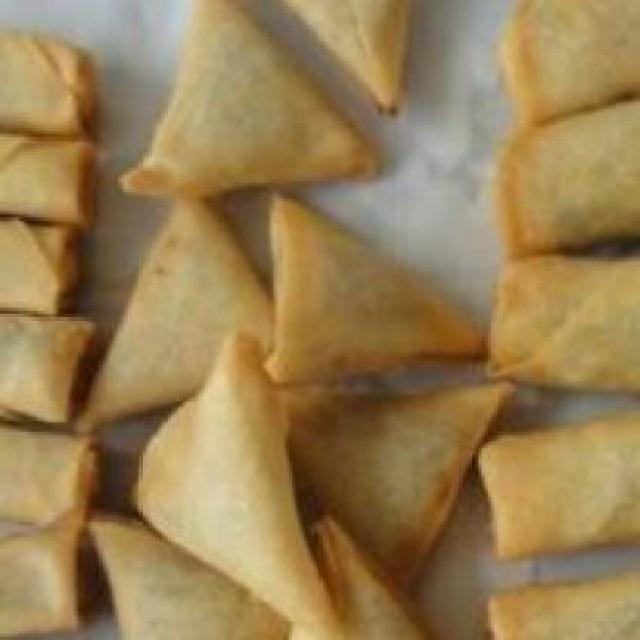spring rolls: (3, 25, 103, 637)
